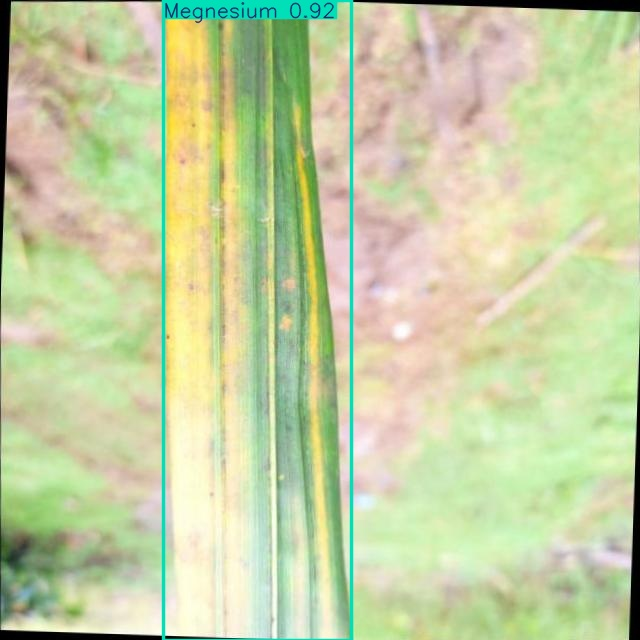Megnesium: (163, 0, 352, 640)
